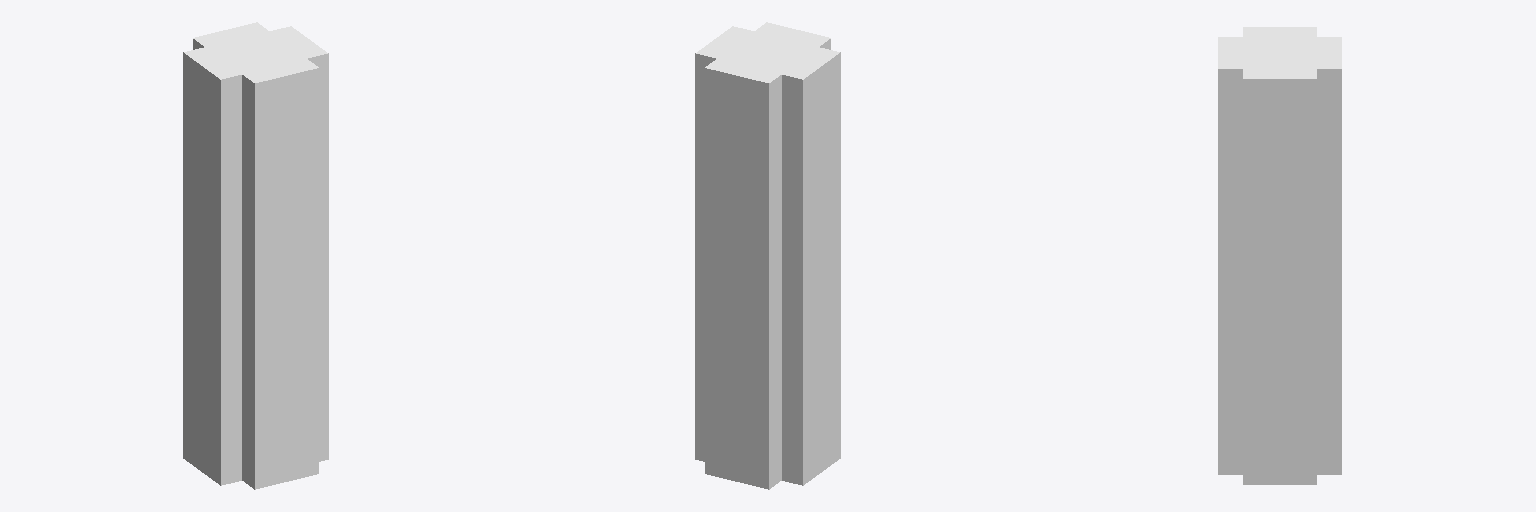
File: human0_leg1.obj
The picture shows the model from 3 angles: view 1: azimuth 30°, elevation 25°; view 2: azimuth 150°, elevation 25°; view 3: azimuth 270°, elevation 25°; orthographic projection.
Visible parts, largest first — view 1: human0_leg1; view 2: human0_leg1; view 3: human0_leg1.
Boxes of the visible parts, box(x1,y1,x2,y2) form: human0_leg1: box(183, 22, 328, 489); human0_leg1: box(695, 22, 840, 489); human0_leg1: box(1218, 27, 1341, 484).
Size of the model in its own units: 5 by 18 by 5.